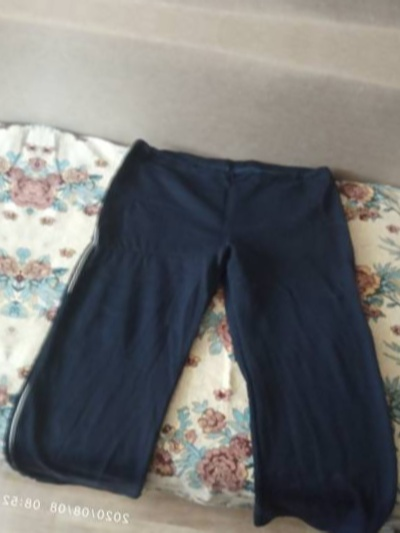Pants: (0, 92, 400, 533), (0, 31, 46, 488)
